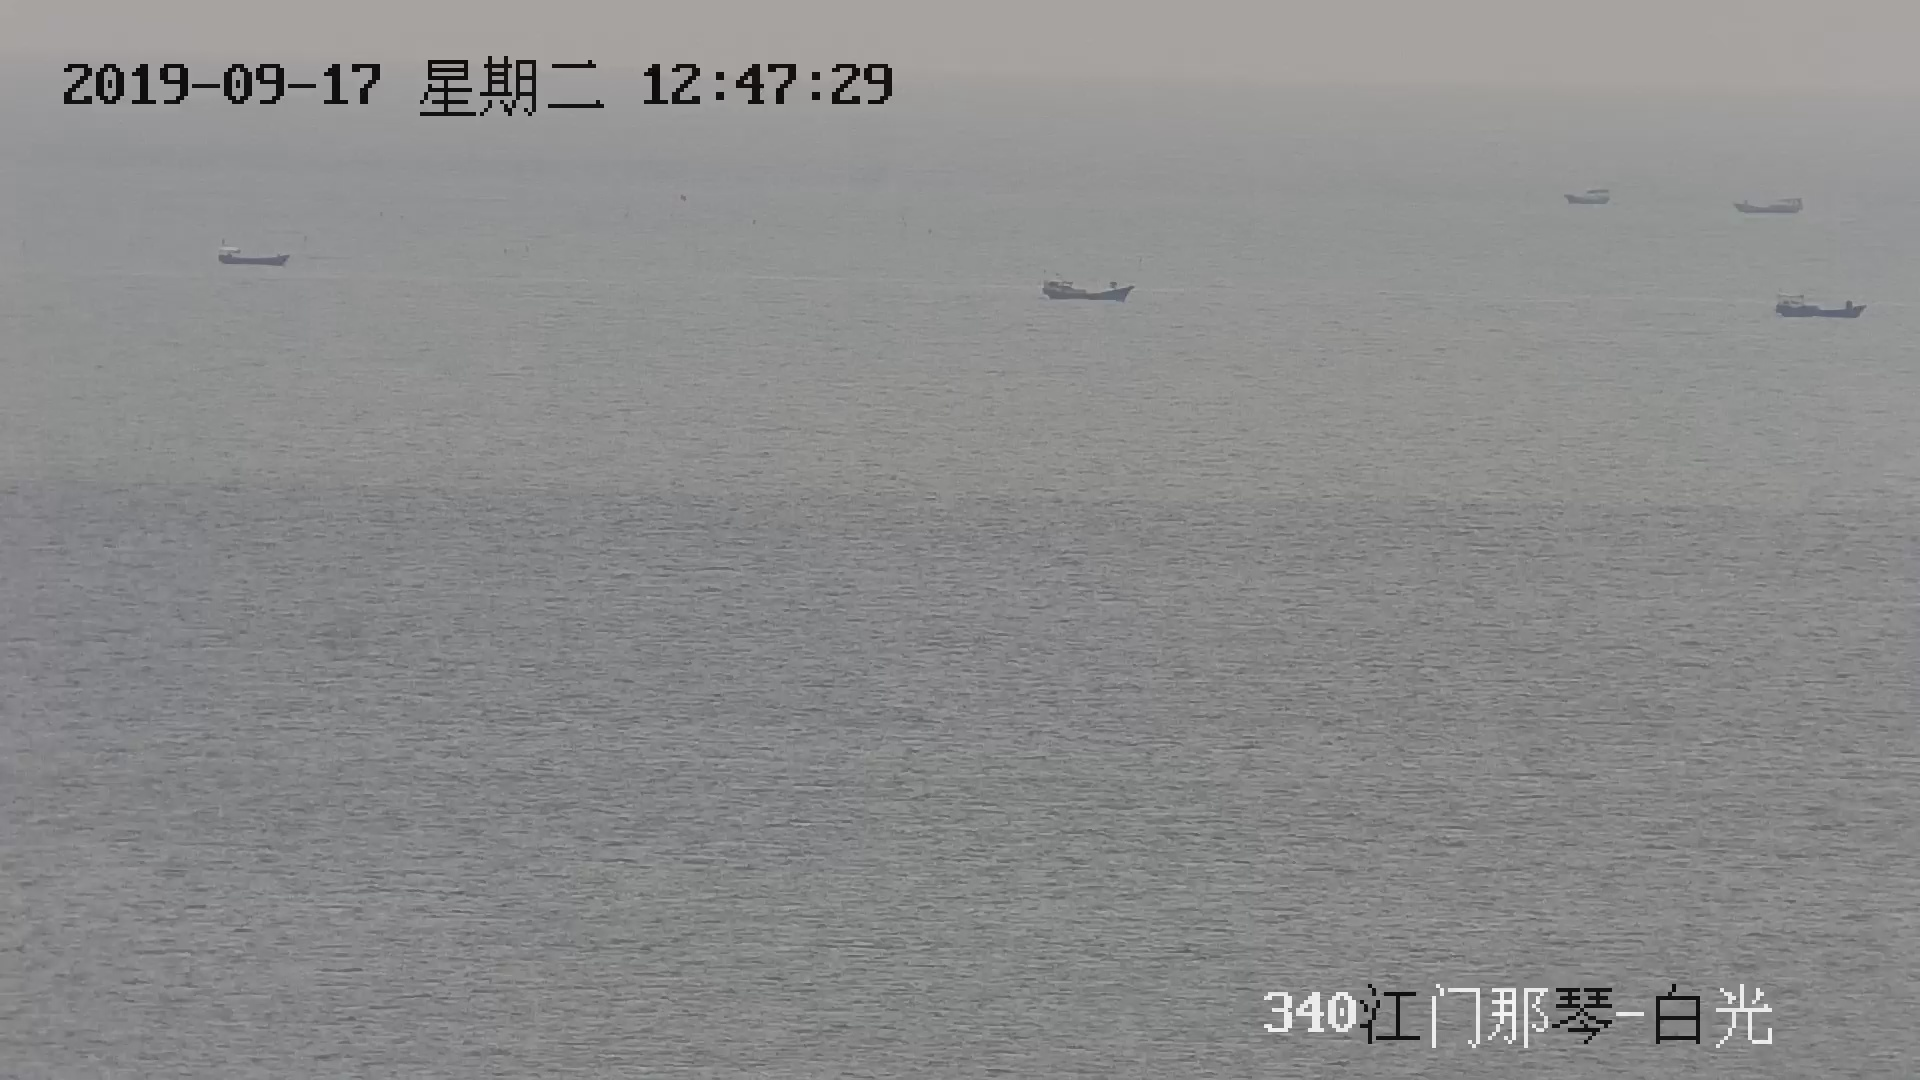ship: (1774, 291, 1863, 322), (1040, 280, 1135, 305), (214, 243, 294, 272), (1731, 193, 1803, 218), (1563, 181, 1611, 210)
